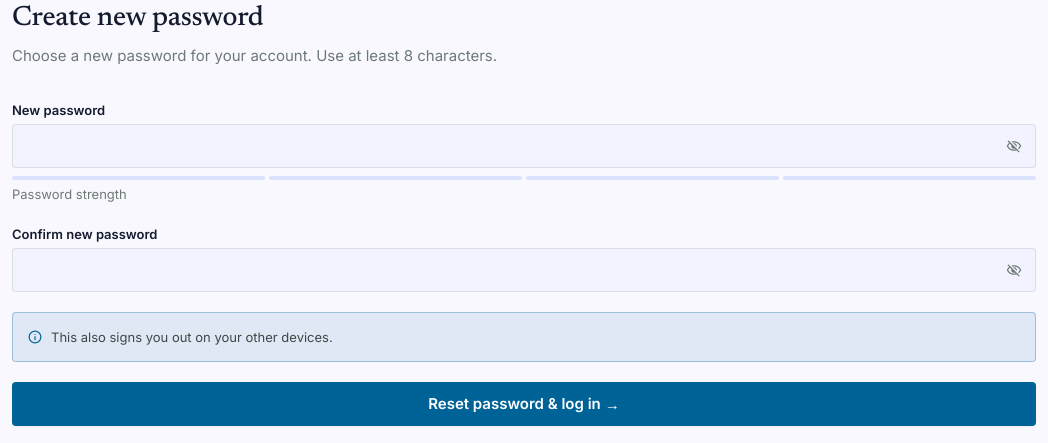
Test case: ResetPasswordForm: the form › switches to the expired state when the key died while the form was open
In the password field labelled "New password": point(524, 146) [12,124,1036,168], type "a-brand-new-passphrase-77"
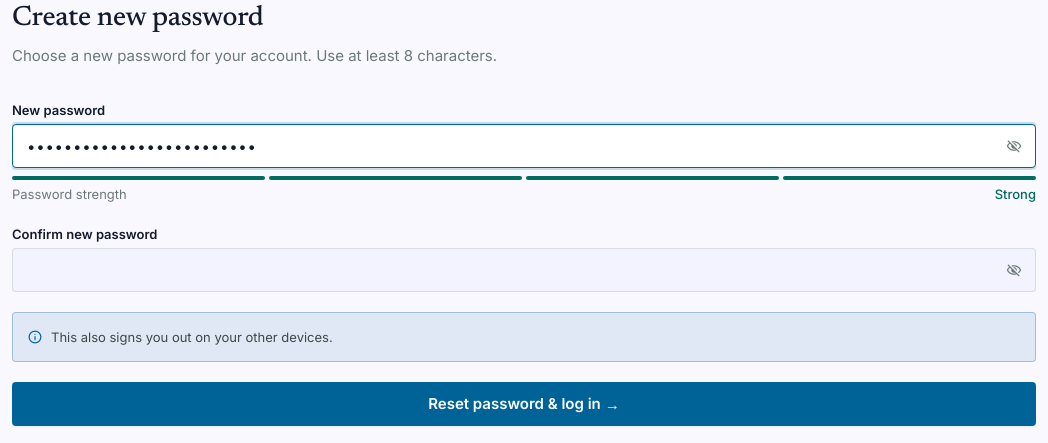
In the password field labelled "Confirm new password": point(524, 270) [12,248,1036,292], type "a-brand-new-passphrase-77"
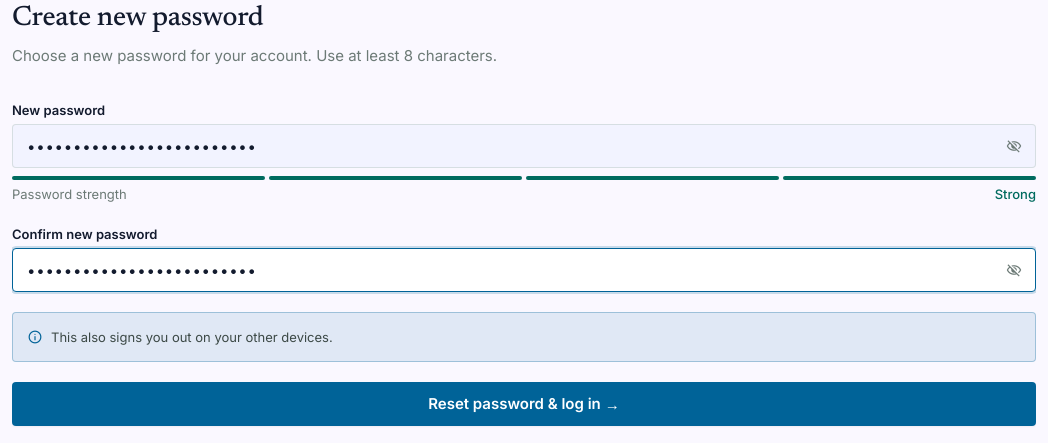
Click the button "Reset password & log in →": point(524, 404) [12,382,1036,426]
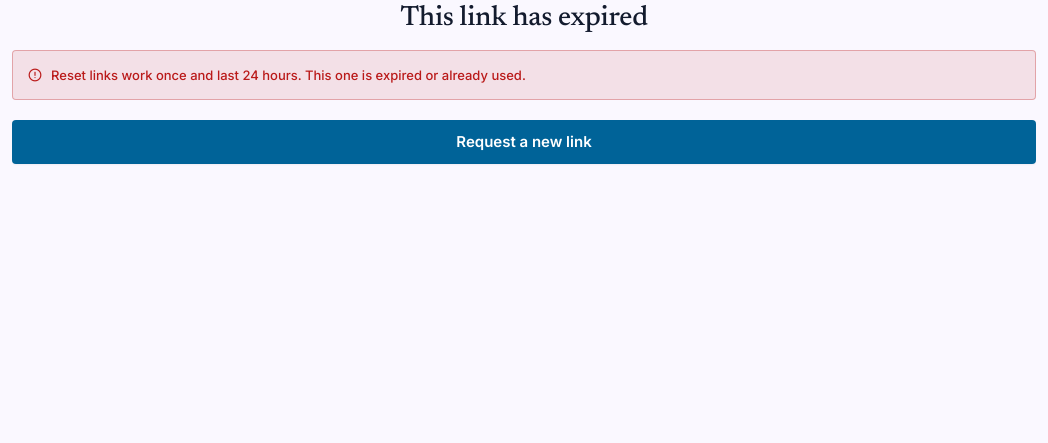
Expected: the heading "This link has expired" is shown, [400,4,648,32]
